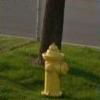a fire hydrant: (41, 41, 68, 97)
